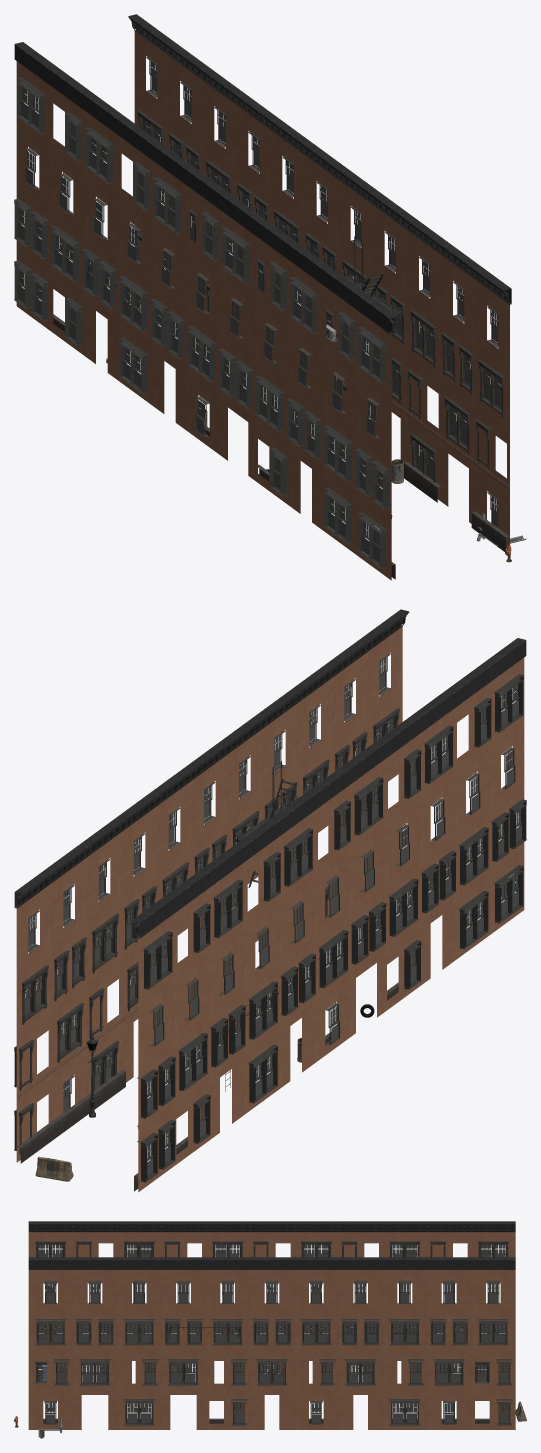
File: alley_lit.glb
3 views of the same model, one above another, from view 1: azimuth 30°, elevation 25°; view 2: azimuth 150°, elevation 25°; view 3: azimuth 270°, elevation 25° (orthographic). The views are drawn at different scales.
Visible parts, largest first — view 1: alley_set; view 2: alley_set; view 3: alley_set.
Boxes of the visible parts, left/top/right/bottom form: alley_set: left=14, top=14, right=526, bottom=580; alley_set: left=14, top=609, right=526, bottom=1192; alley_set: left=14, top=1221, right=526, bottom=1438.
Size of the model in its own units: 7.66 by 13.05 by 34.76.
22 materials, 22 textured.
